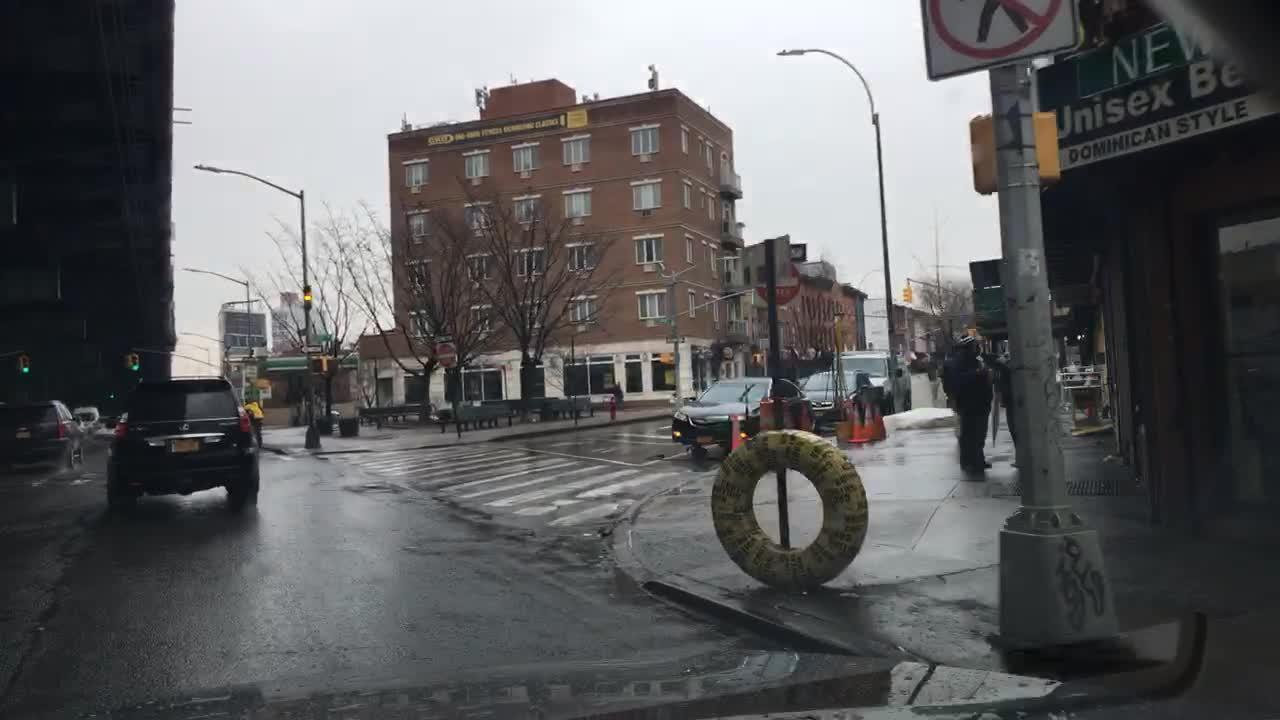lexus: (176, 421, 190, 436)
